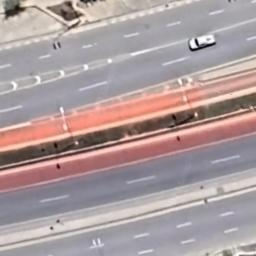pickup: (186, 32, 218, 53)
